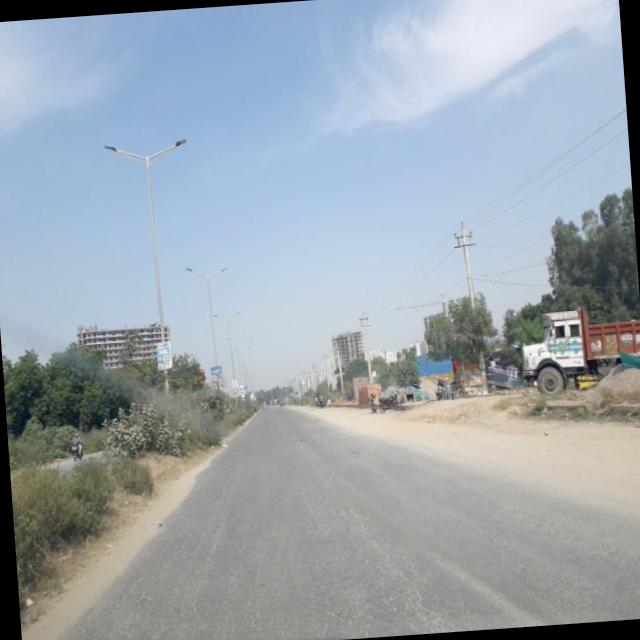crack: (115, 497, 636, 640)
